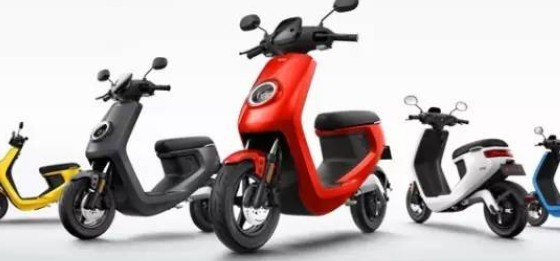non-vehicle: (208, 1, 389, 257), (57, 57, 225, 241), (403, 92, 527, 238), (0, 122, 80, 218), (521, 125, 559, 228)
